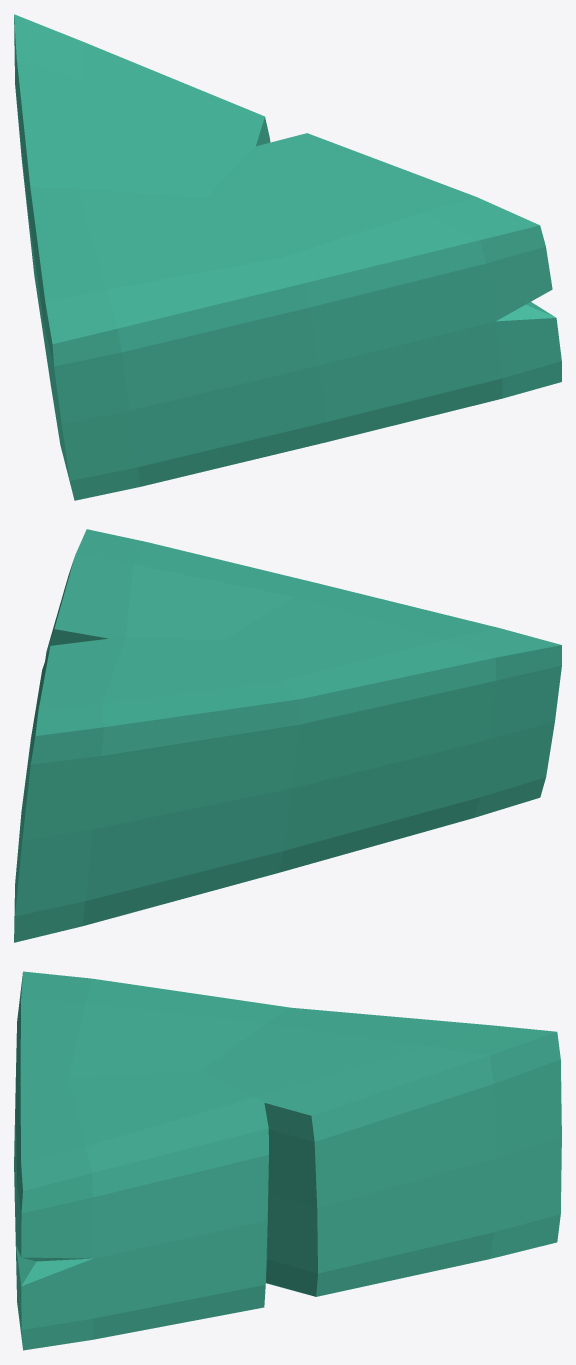
Rendered from Green3.fbx.
3 views of the same model, one above another, from view 1: azimuth 30°, elevation 25°; view 2: azimuth 150°, elevation 25°; view 3: azimuth 270°, elevation 25° (orthographic). The views are drawn at different scales.
Parts seen in each view (by area): view 1: triangle; view 2: triangle; view 3: triangle.
Boxes of the visible parts, <box> form: triangle: <box>14,14,561,500</box>; triangle: <box>14,529,561,942</box>; triangle: <box>14,971,561,1350</box>.
Size of the model in its own units: 1.86 by 0.7853 by 1.88.
